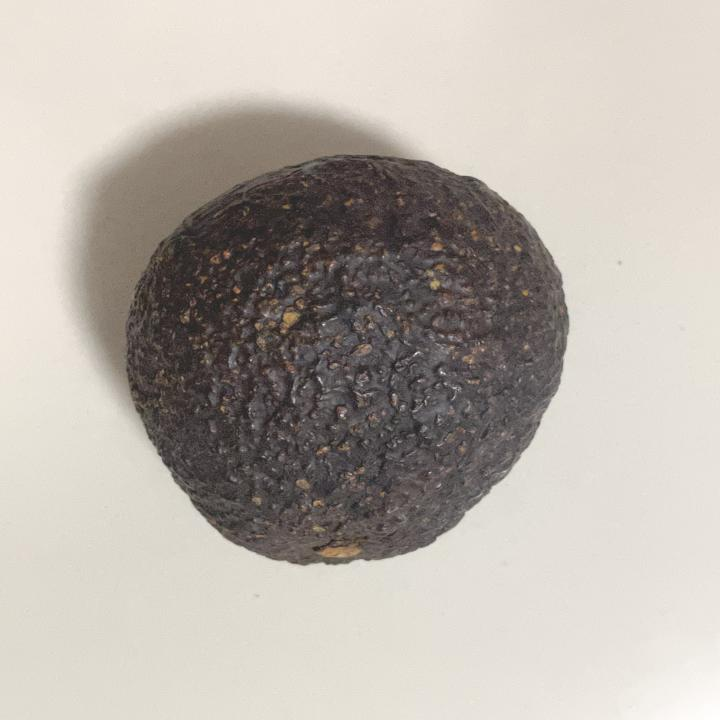Level3: (116, 148, 582, 576)
